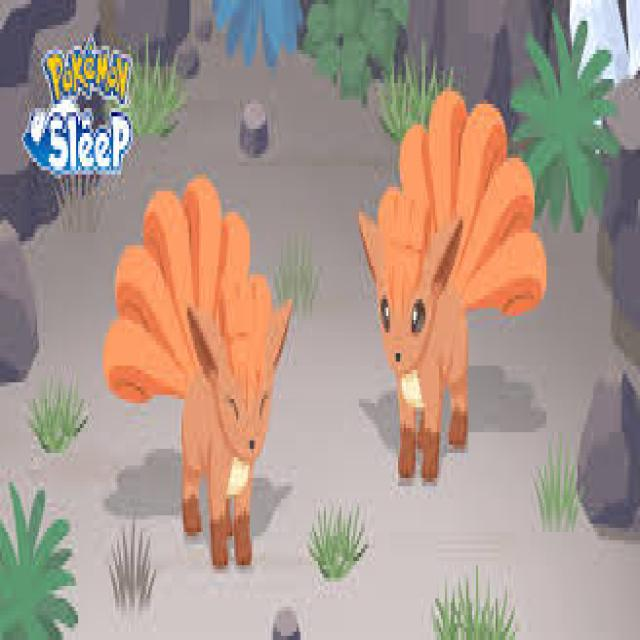Vulpix: (170, 226, 270, 548), (370, 165, 466, 443)
